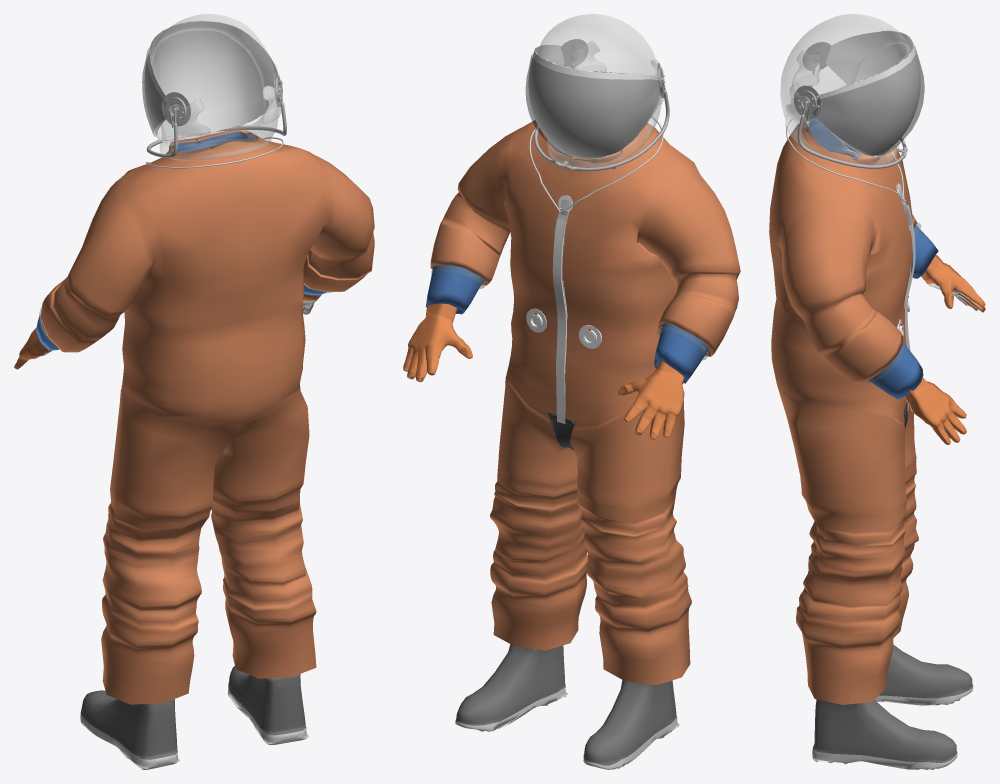
Rendered from crew-escape-suit.glb.
3 views of the same model, side by side, from view 1: azimuth 30°, elevation 25°; view 2: azimuth 150°, elevation 25°; view 3: azimuth 270°, elevation 25° (orthographic). The views are drawn at different scales.
Parts seen in each view (by area): view 1: Advanced Crew Escape Suit; view 2: Advanced Crew Escape Suit; view 3: Advanced Crew Escape Suit.
Boxes of the visible parts, bbox=[...] form: Advanced Crew Escape Suit: bbox=[14, 14, 374, 769]; Advanced Crew Escape Suit: bbox=[403, 14, 740, 769]; Advanced Crew Escape Suit: bbox=[769, 14, 985, 769].
Bounding box in the file's own units: 0.8871 × 2 × 0.5548.
Materials: 2 (2 with a texture image).
